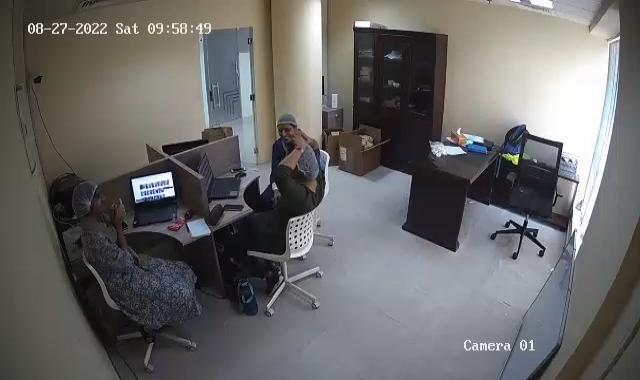hairnet: (70, 178, 102, 214)
